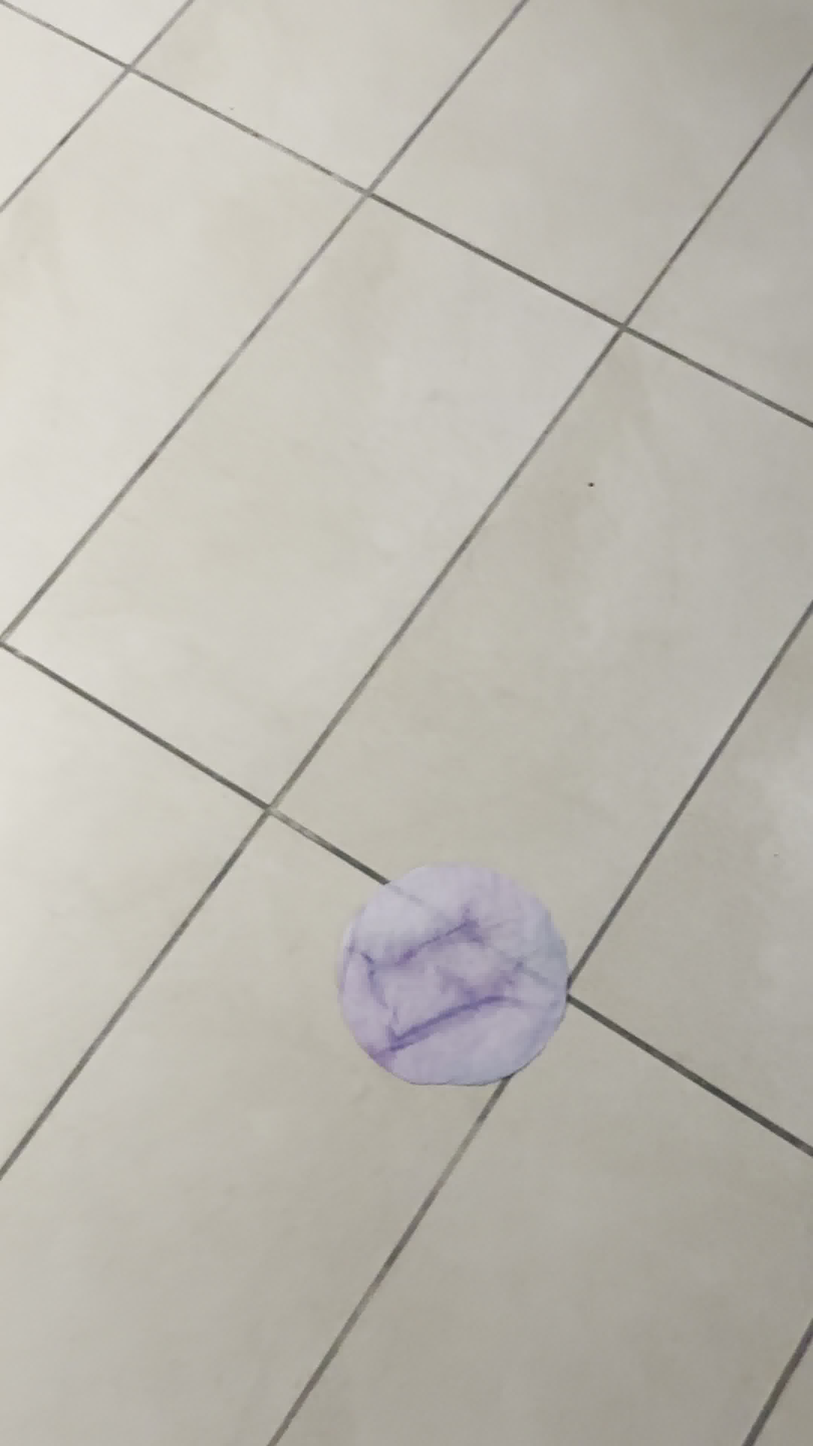Target: (333, 868, 567, 1089)
